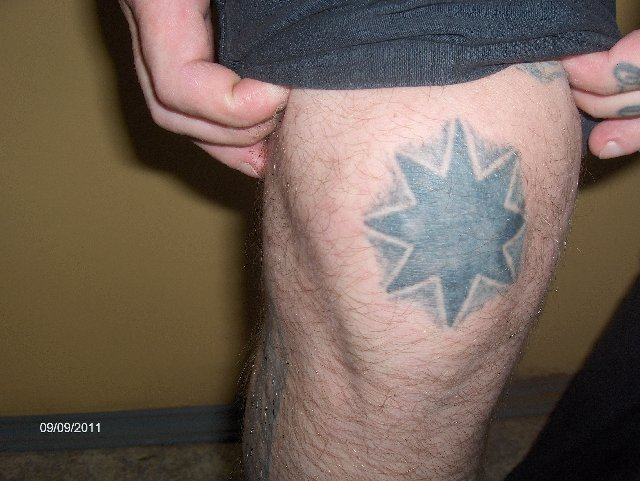tatu4_zvezda: (363, 119, 528, 327)
